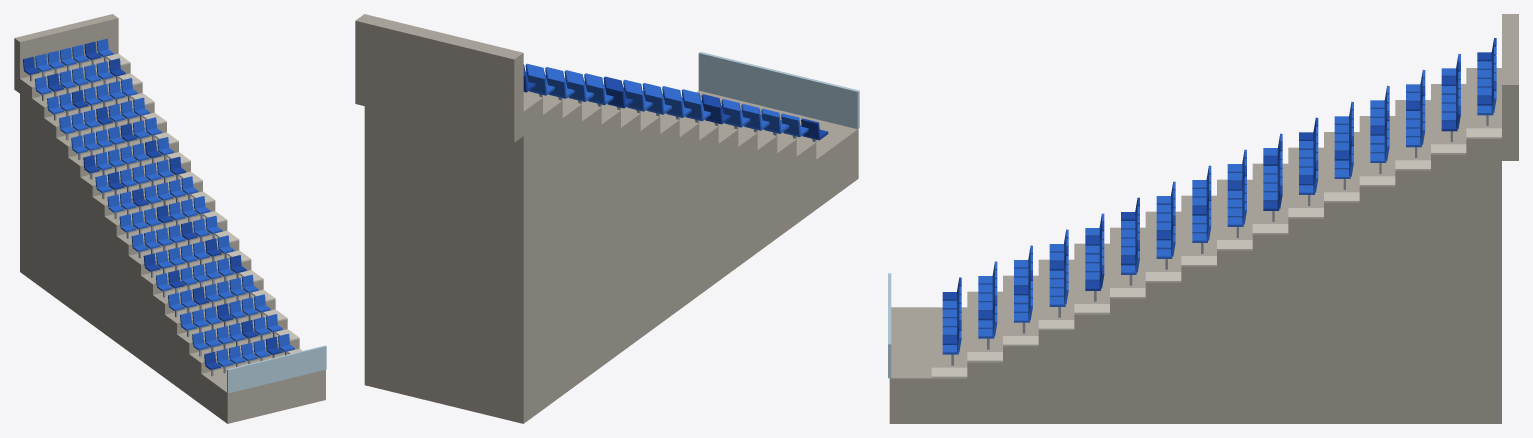
File: stand_block.glb
The picture shows the model from 3 angles, left to right: view 1: azimuth 30°, elevation 25°; view 2: azimuth 150°, elevation 25°; view 3: azimuth 270°, elevation 25°; orthographic projection. The views are drawn at different scales.
Visible parts, largest first — view 1: bb_stand_block; view 2: bb_stand_block; view 3: bb_stand_block.
Part boxes in pixels (x1,y1,x2,y2): bb_stand_block: (14, 14, 326, 423); bb_stand_block: (355, 14, 859, 423); bb_stand_block: (888, 14, 1518, 423).
Size of the model in its own units: 4 by 8.92 by 15.04.
